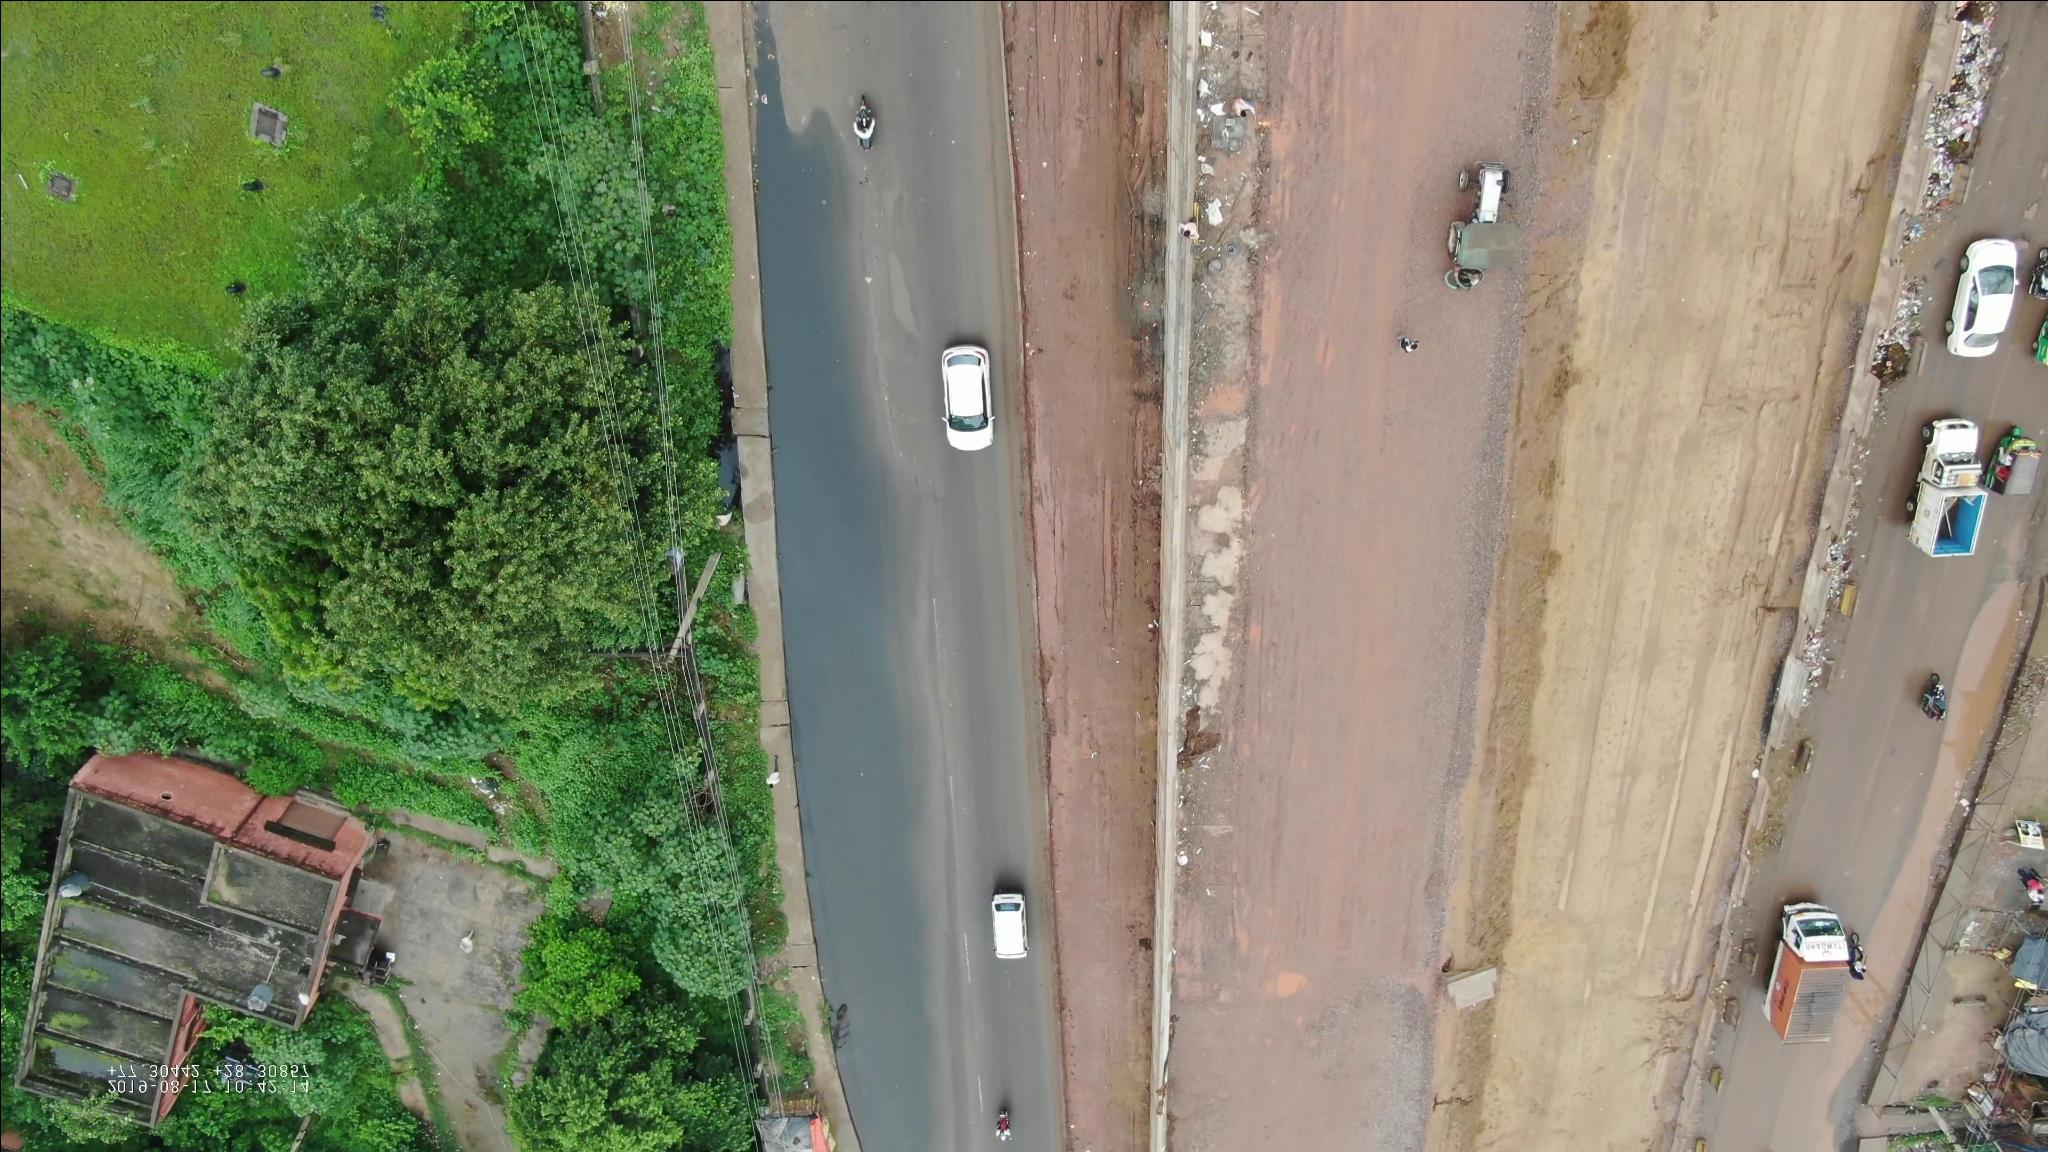Potholes: (876, 219, 923, 366)
